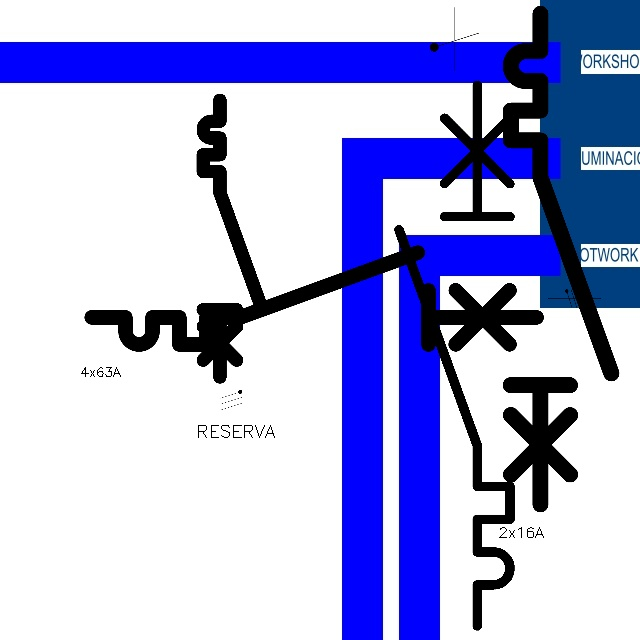interruptor_termomagnetico: (385, 71, 524, 640), (498, 1, 624, 516), (80, 241, 548, 356), (196, 93, 267, 384)
